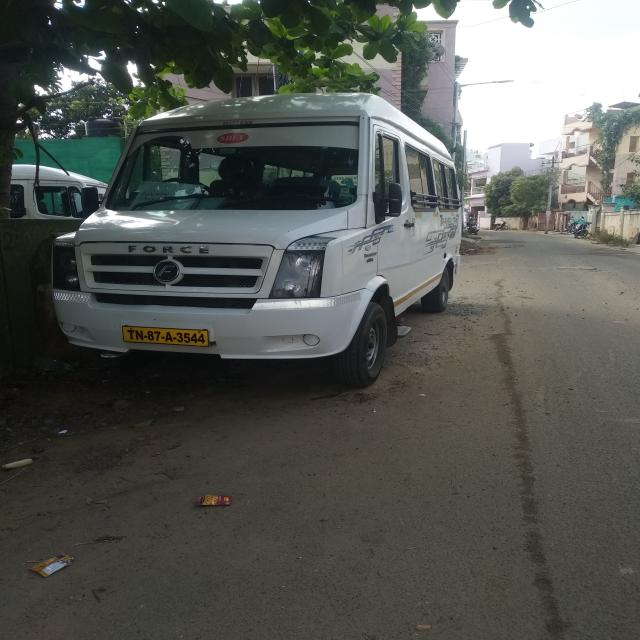Traveller: (10, 94, 462, 385)
